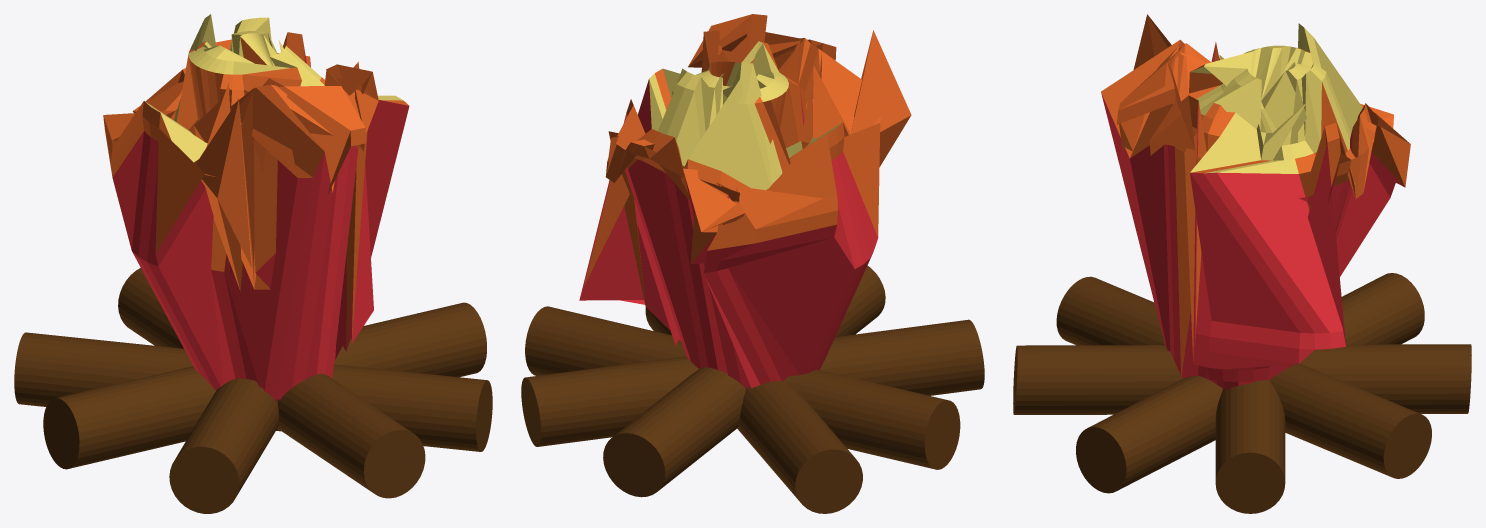
Rendered from CampFire.glb.
3 views of the same model, side by side, from view 1: azimuth 30°, elevation 25°; view 2: azimuth 150°, elevation 25°; view 3: azimuth 270°, elevation 25° (orthographic). The views are drawn at different scales.
Parts seen in each view (by area): view 1: Sphere, Cylinder, Cylinder.003, Cylinder.001, Cylinder.002; view 2: Sphere, Cylinder.002, Cylinder, Cylinder.001, Cylinder.003; view 3: Sphere, Cylinder.001, Cylinder.002, Cylinder.003, Cylinder.
Boxes of the visible parts, x1,y1,x2,y2 form: Sphere: (103,14,409,401); Cylinder: (43,302,486,469); Cylinder.003: (14,332,492,451); Cylinder.001: (118,268,425,498); Cylinder.002: (169,378,279,513); Sphere: (579,14,911,388); Cylinder.002: (521,319,984,446); Cylinder: (525,306,960,469); Cylinder.001: (603,265,885,497); Cylinder.003: (645,307,862,513); Sphere: (1101,14,1410,390); Cylinder.001: (1013,344,1471,414); Cylinder.002: (1056,276,1431,478); Cylinder.003: (1076,273,1424,493); Cylinder: (1215,380,1285,513).
Size of the model in its own units: 5.55 by 5.14 by 5.55.
